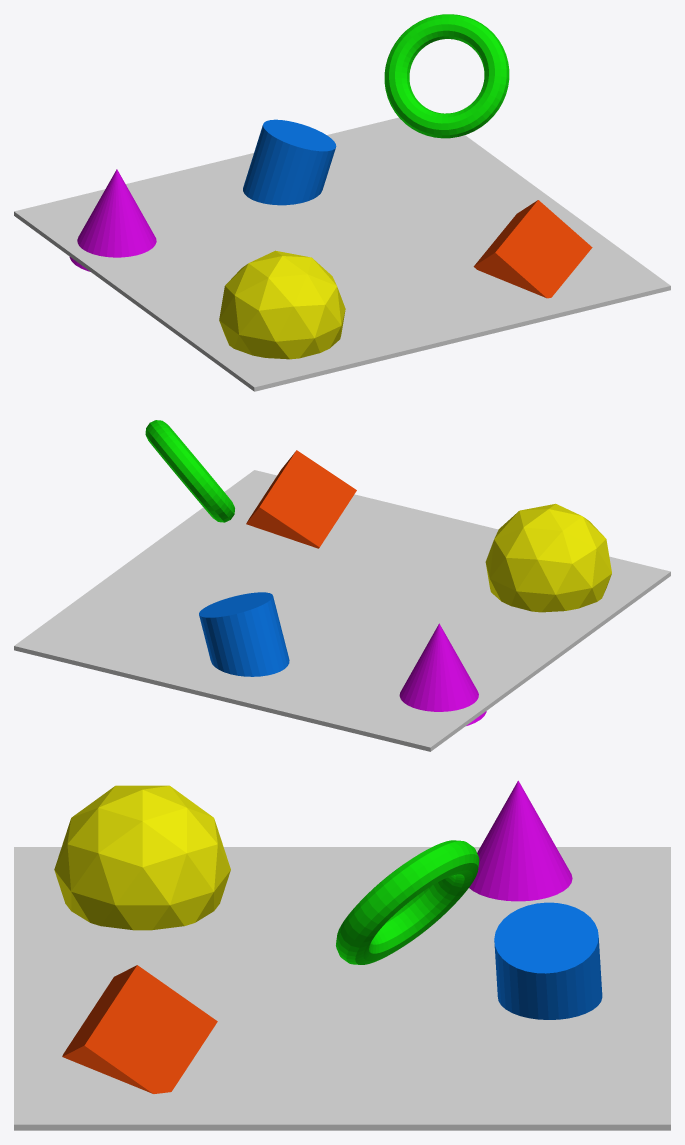
File: _playground.glb
The picture shows the model from 3 angles, top to bottom: view 1: azimuth 30°, elevation 25°; view 2: azimuth 150°, elevation 25°; view 3: azimuth 270°, elevation 25°; orthographic projection. The views are drawn at different scales.
Parts seen in each view (by area): view 1: 立方体, 棱角球, 环体, 立方体.001, 柱体, 锥体; view 2: 立方体, 棱角球, 立方体.001, 柱体, 锥体, 环体; view 3: 立方体, 棱角球, 立方体.001, 柱体, 环体, 锥体.
Boxes of the visible parts, <box> form: 立方体: <box>14,110,670,391</box>; 棱角球: <box>219,250,345,359</box>; 环体: <box>384,14,509,138</box>; 立方体.001: <box>473,200,592,298</box>; 柱体: <box>243,119,336,205</box>; 锥体: <box>69,169,156,271</box>; 立方体: <box>14,470,670,751</box>; 棱角球: <box>485,503,611,612</box>; 立方体.001: <box>246,450,356,548</box>; 柱体: <box>199,592,289,676</box>; 锥体: <box>399,623,486,725</box>; 环体: <box>145,420,234,522</box>; 立方体: <box>14,847,670,1130</box>; 棱角球: <box>54,785,230,930</box>; 立方体.001: <box>62,965,217,1093</box>; 柱体: <box>494,902,602,1019</box>; 环体: <box>336,840,479,964</box>; 锥体: <box>469,780,572,901</box>.
Bounding box in the file's own units: 20 × 9.7 × 20.
